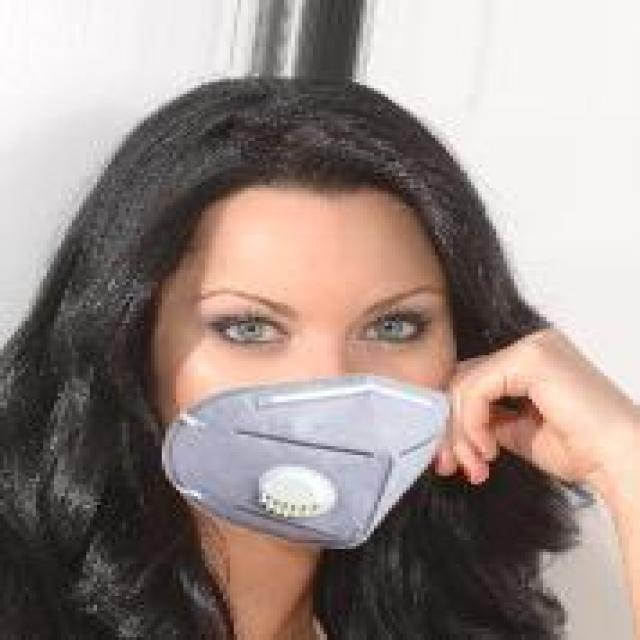mask: (86, 41, 568, 558)
